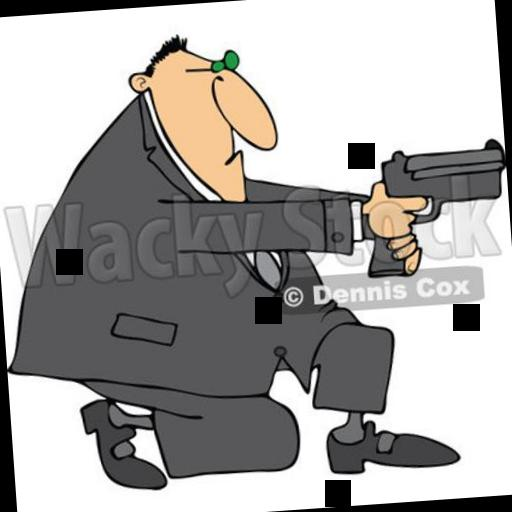Handgun: (360, 136, 506, 276)
